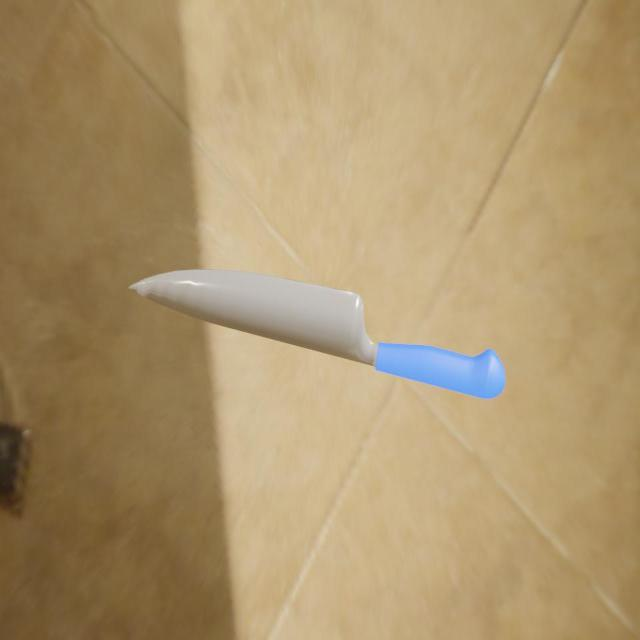knife: (375, 342, 506, 400)
